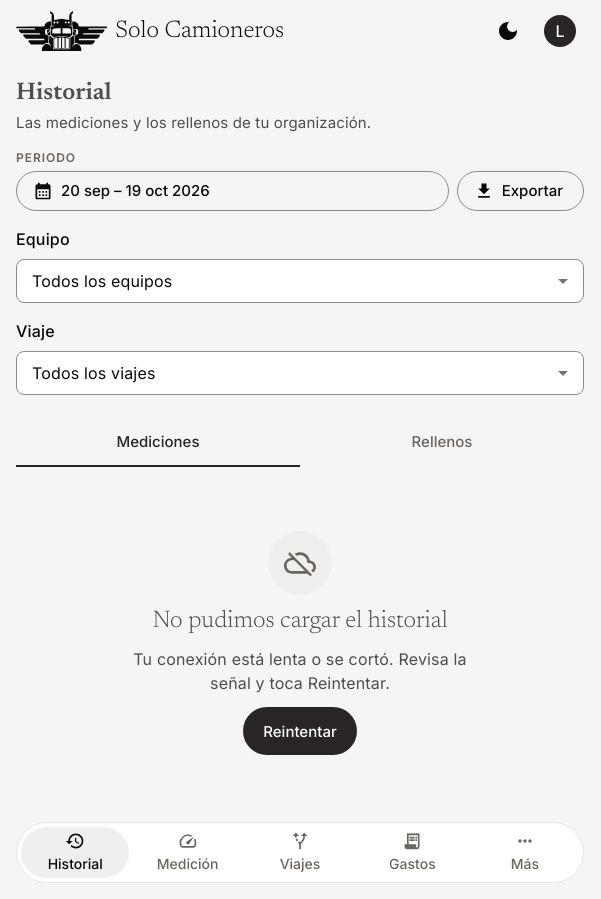
a failed load offers to retry
Click the button "Reintentar". click: (300, 731)
box: [243,707,357,755]
(page scrolled)
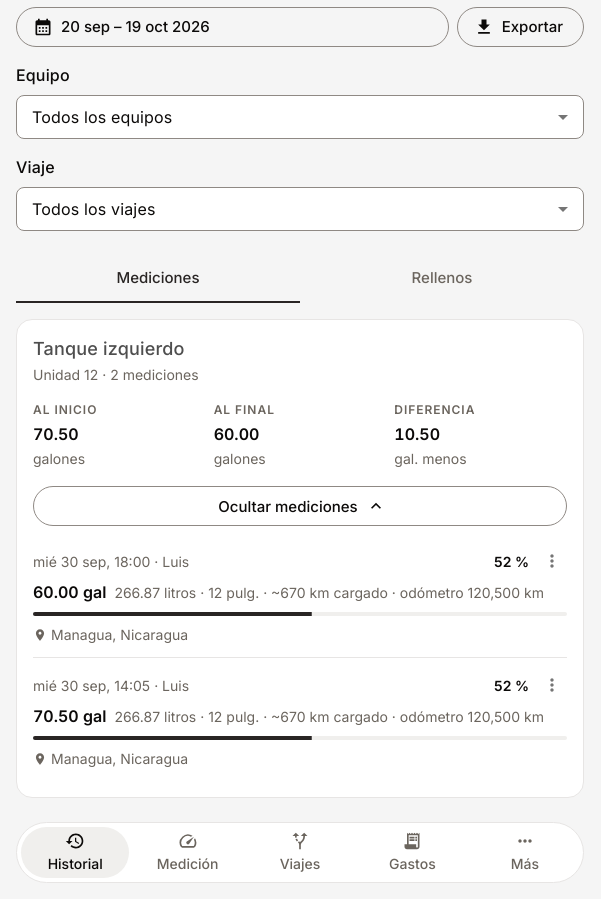
Expected: the element "Tanque izquierdo" is shown, [16,319,584,798]
